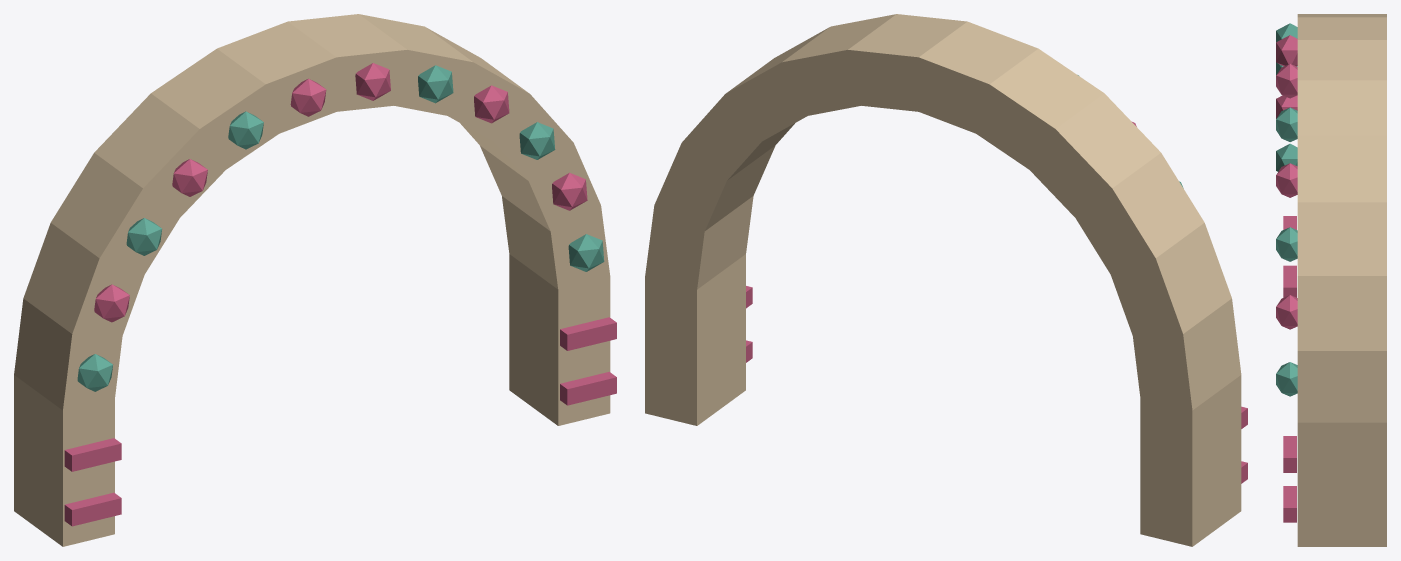
File: Candyland_FrostingGate_Standard.glb
The picture shows the model from 3 angles, left to right: view 1: azimuth 30°, elevation 25°; view 2: azimuth 150°, elevation 25°; view 3: azimuth 270°, elevation 25°; orthographic projection. The views are drawn at different scales.
Parts seen in each view (by area): view 1: Candyland_FrostingGate_Standard; view 2: Candyland_FrostingGate_Standard; view 3: Candyland_FrostingGate_Standard.
Part boxes in pixels (bbox=[...]): Candyland_FrostingGate_Standard: bbox=[14, 14, 616, 546]; Candyland_FrostingGate_Standard: bbox=[645, 14, 1247, 546]; Candyland_FrostingGate_Standard: bbox=[1276, 14, 1386, 546].
Bounding box in the file's own units: 4.2 × 3.1 × 0.8071.
